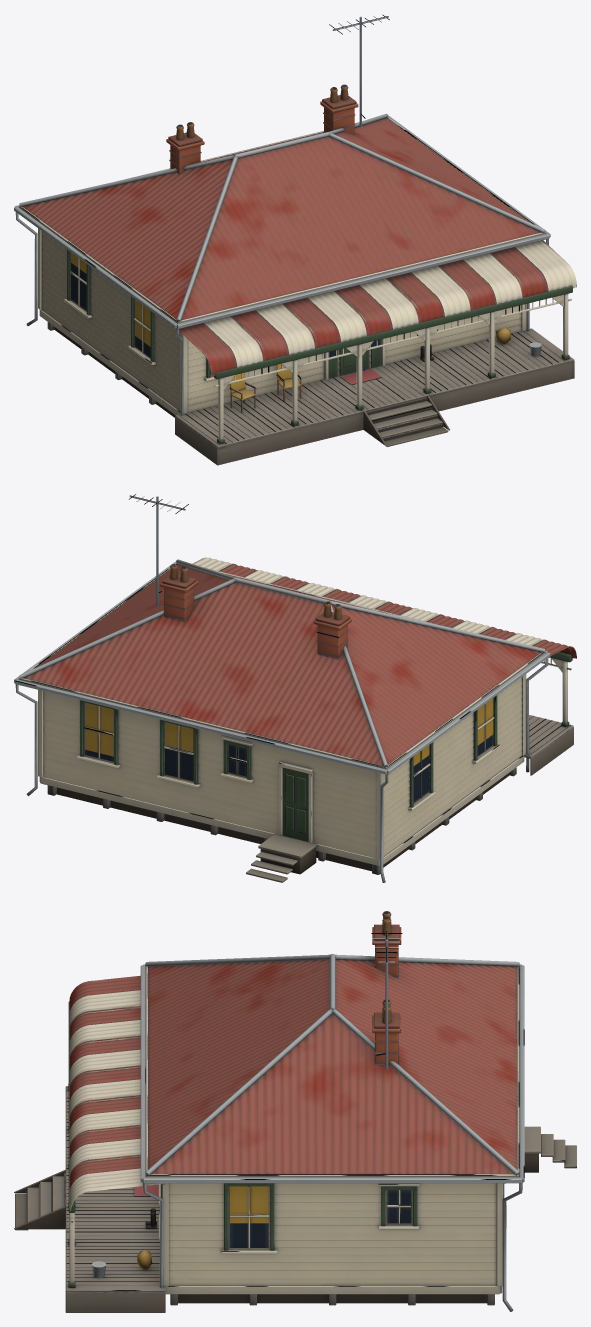
The model's file is farmhouse.glb.
3 renders of one model, top to bottom at view 1: azimuth 30°, elevation 25°; view 2: azimuth 150°, elevation 25°; view 3: azimuth 270°, elevation 25°, orthographic. The views are drawn at different scales.
Parts seen in each view (by area): view 1: farmhouse; view 2: farmhouse; view 3: farmhouse.
Boxes of the visible parts, box(x1,y1,x2,y2) form: farmhouse: box(14, 14, 576, 465); farmhouse: box(14, 494, 576, 882); farmhouse: box(14, 911, 576, 1312).
Size of the model in its own units: 12.21 by 8.76 by 13.5.
Materials: 1 (1 with a texture image).
